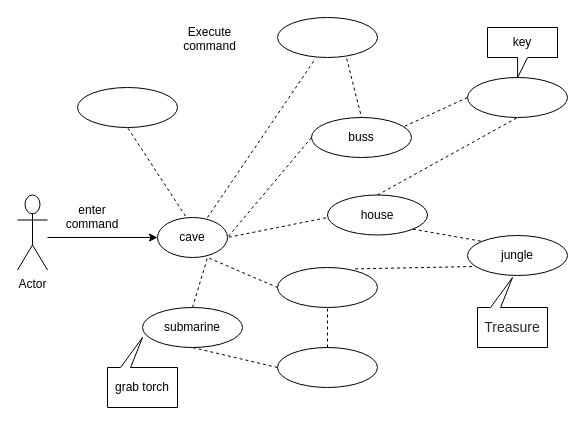
The diagram is 585 pixels wide and 425 high, and some of its shapes have lost their labels. Each missing label, with the box of its shape:
graveyard: (466, 76, 568, 118)
hospital: (276, 266, 378, 308)
print help: (76, 86, 178, 128)
river: (276, 16, 378, 58)
rollecoaster: (276, 346, 378, 388)
